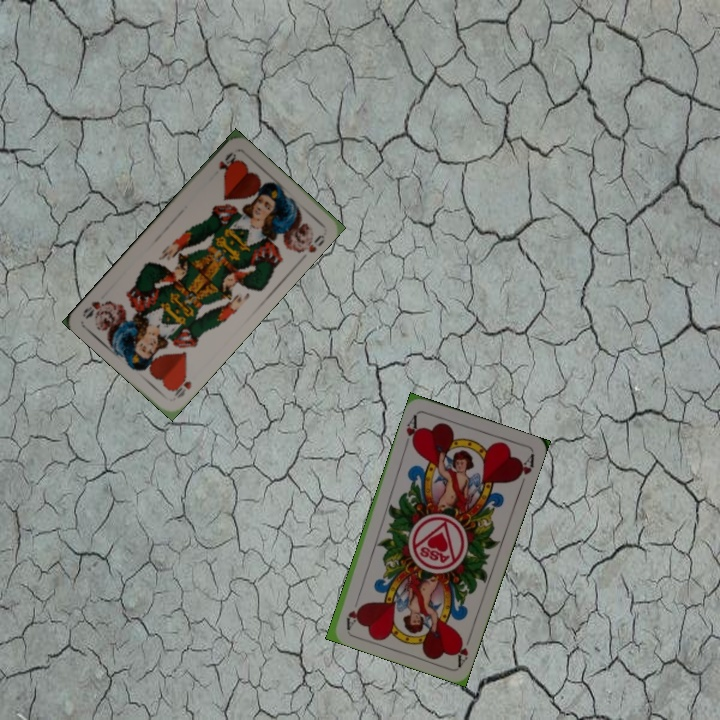HA: (451, 629, 475, 668), (401, 410, 422, 450)
HO: (168, 369, 194, 401), (215, 148, 239, 173)
